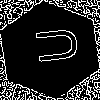U: (25, 25, 80, 67)
